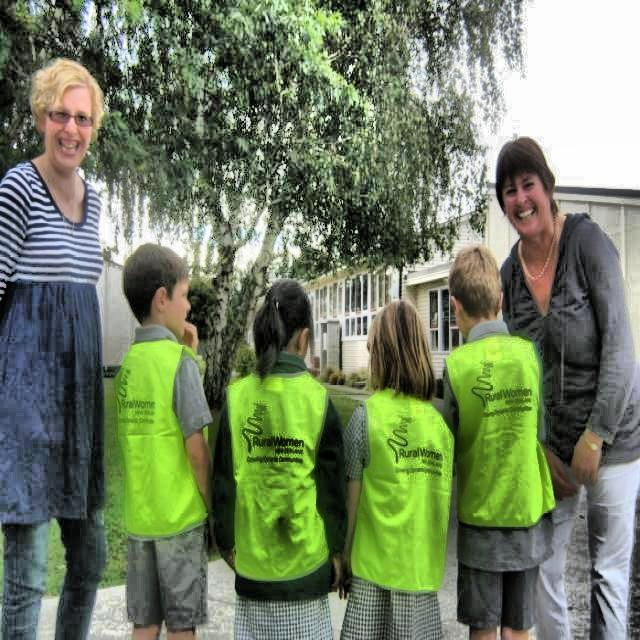safety_jacket: (426, 322, 552, 584), (218, 366, 342, 586), (108, 333, 204, 587), (349, 382, 459, 600)
